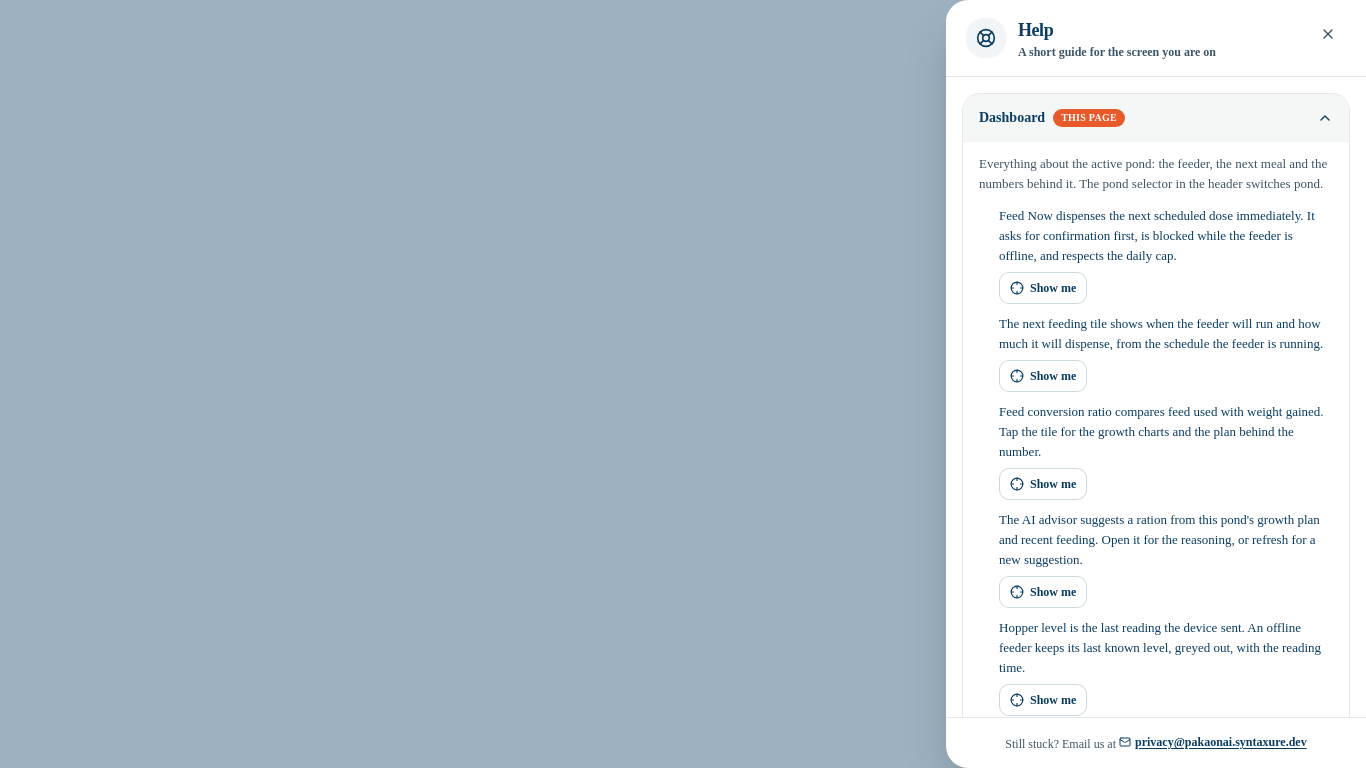
Test: HelpSheet › says so when a control is not on this page
The width and height of the screenshot is (1366, 768).
Note: The dashboard is rendered without any controls in this test DOM.
Click the 1st button "Show me" at (1043, 288), box top-left (999, 272), bottom-right (1087, 304)
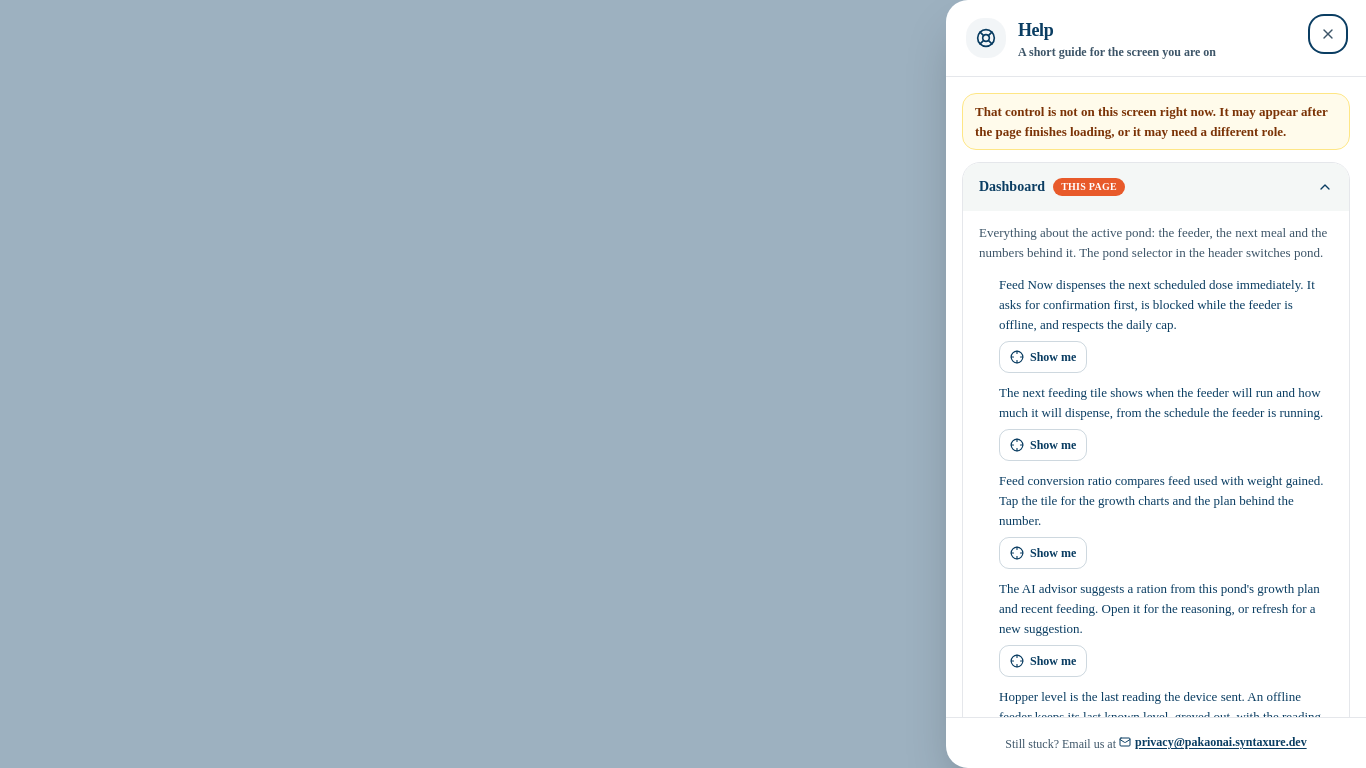
Result: the text "That control is not on this screen right now" is shown at top-left (975, 104), bottom-right (1328, 138)
